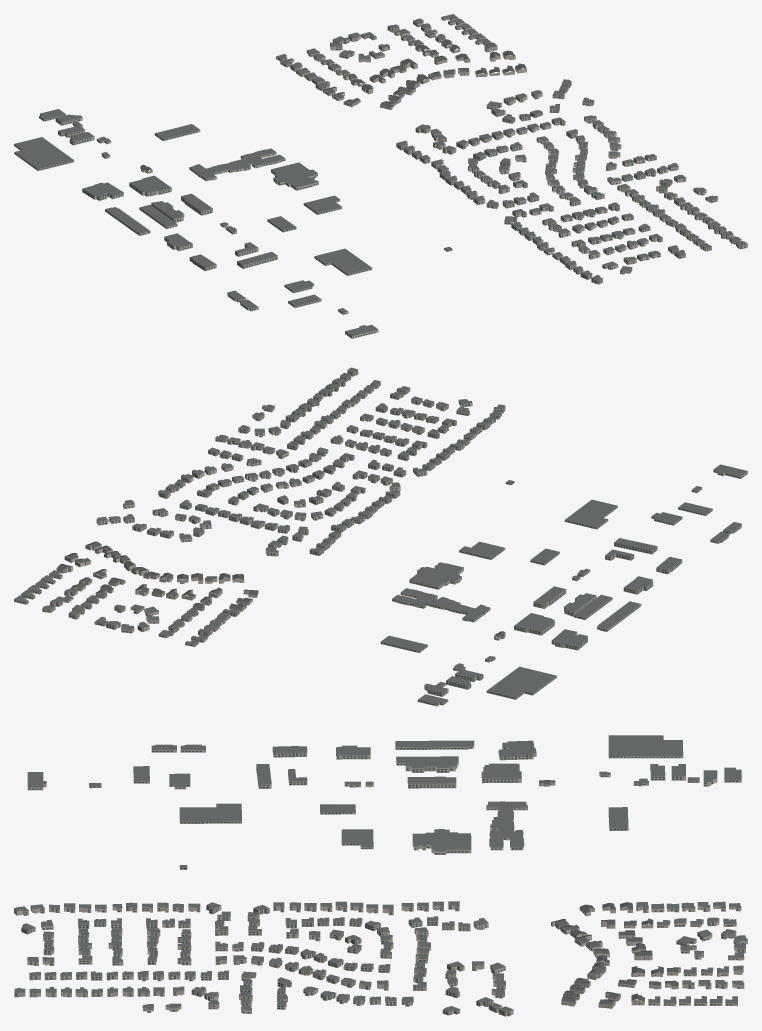
The picture shows the model from 3 angles, top to bottom: view 1: azimuth 30°, elevation 25°; view 2: azimuth 150°, elevation 25°; view 3: azimuth 270°, elevation 25°; orthographic projection. The views are drawn at different scales.
Visible parts, largest first — view 1: Buildings (4, 3) Roof membrane, Buildings (4, 3) Masonry brick, Buildings (4, 3) Architectural tinted glass, Buildings (4, 3) Roof shingles, Buildings (4, 3) Metal coping; view 2: Buildings (4, 3) Roof membrane, Buildings (4, 3) Masonry brick, Buildings (4, 3) Architectural tinted glass, Buildings (4, 3) Roof shingles, Buildings (4, 3) Metal coping; view 3: Buildings (4, 3) Roof membrane, Buildings (4, 3) Masonry brick, Buildings (4, 3) Architectural tinted glass, Buildings (4, 3) Roof shingles, Buildings (4, 3) Metal coping.
Boxes of the visible parts, <box> form: Buildings (4, 3) Roof membrane: <box>14,14,747,335</box>; Buildings (4, 3) Masonry brick: <box>14,17,747,338</box>; Buildings (4, 3) Architectural tinted glass: <box>14,18,745,338</box>; Buildings (4, 3) Roof shingles: <box>140,39,526,171</box>; Buildings (4, 3) Metal coping: <box>19,16,747,331</box>; Buildings (4, 3) Roof membrane: <box>14,367,747,704</box>; Buildings (4, 3) Masonry brick: <box>14,370,747,706</box>; Buildings (4, 3) Architectural tinted glass: <box>14,371,746,705</box>; Buildings (4, 3) Roof shingles: <box>57,541,505,637</box>; Buildings (4, 3) Metal coping: <box>14,369,740,701</box>; Buildings (4, 3) Roof membrane: <box>14,735,747,1011</box>; Buildings (4, 3) Masonry brick: <box>14,744,747,1016</box>; Buildings (4, 3) Architectural tinted glass: <box>14,747,743,1015</box>; Buildings (4, 3) Roof shingles: <box>539,780,680,1004</box>; Buildings (4, 3) Metal coping: <box>14,735,744,1011</box>.
Size of the model in its own units: 909 by 10.43 by 1013.
